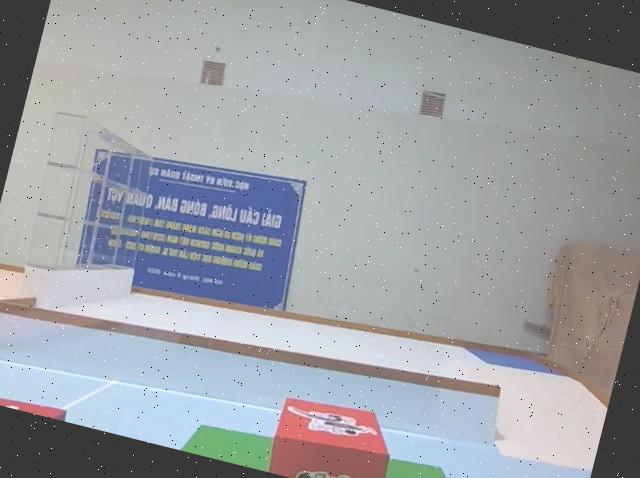R1: (266, 385, 408, 478)
R2 Real: (0, 379, 74, 423)
